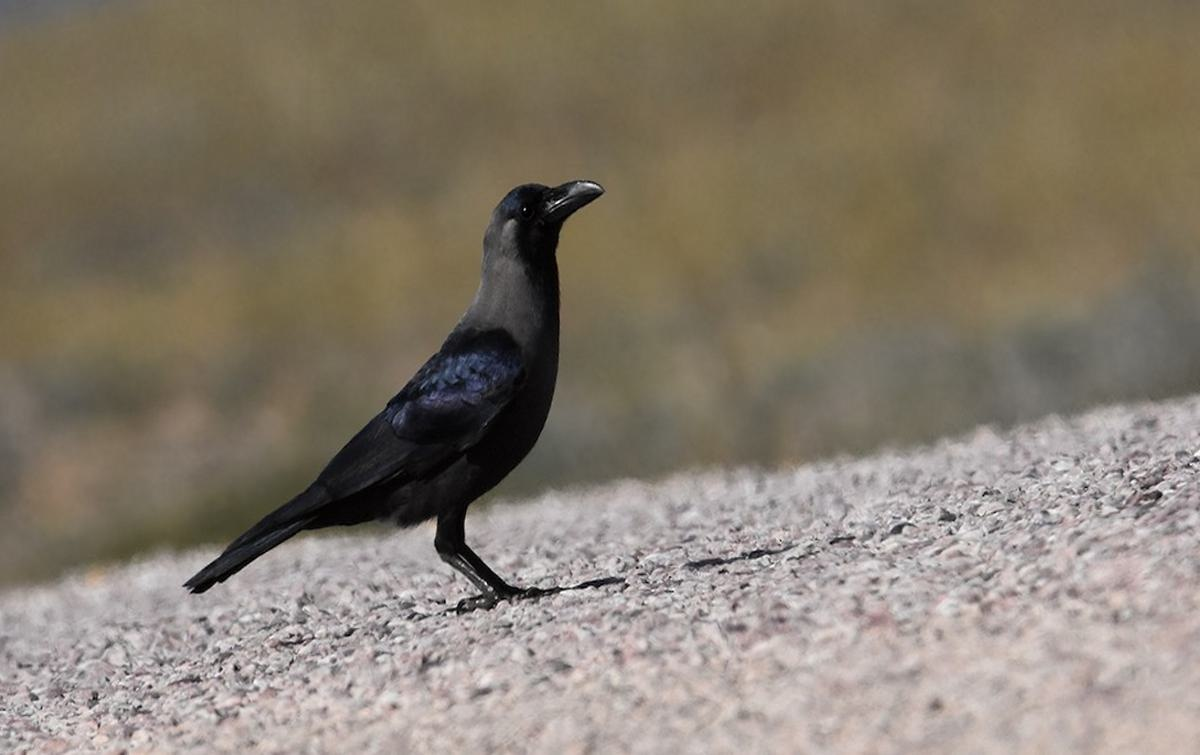crow: (185, 167, 619, 640)
